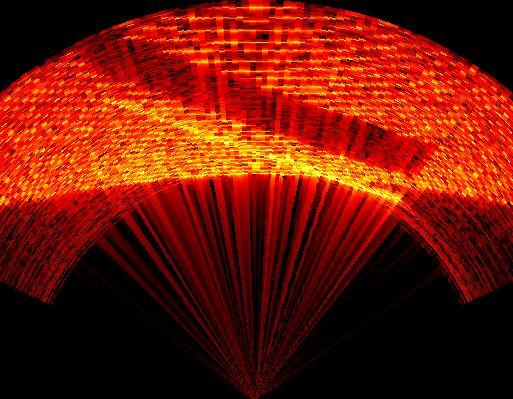pipe: (75, 27, 437, 208)
